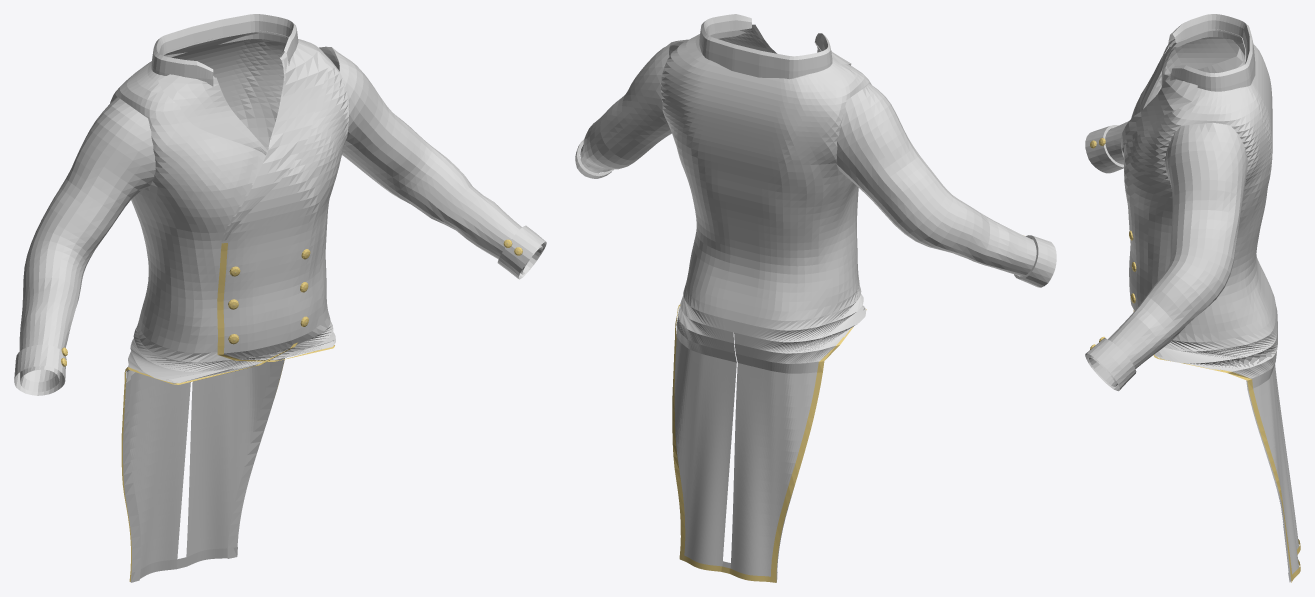
File: ewb_tailcoat.glb
3 renders of one model, left to right at view 1: azimuth 30°, elevation 25°; view 2: azimuth 150°, elevation 25°; view 3: azimuth 270°, elevation 25°, orthographic. The views are drawn at different scales.
Visible parts, largest first — view 1: ewb_tailcoat; view 2: ewb_tailcoat; view 3: ewb_tailcoat.
Boxes of the visible parts, left/top/right/bottom form: ewb_tailcoat: left=14, top=14, right=546, bottom=582; ewb_tailcoat: left=575, top=14, right=1056, bottom=582; ewb_tailcoat: left=1085, top=14, right=1300, bottom=582.
Size of the model in its own units: 1.13 by 1.15 by 0.4356.
